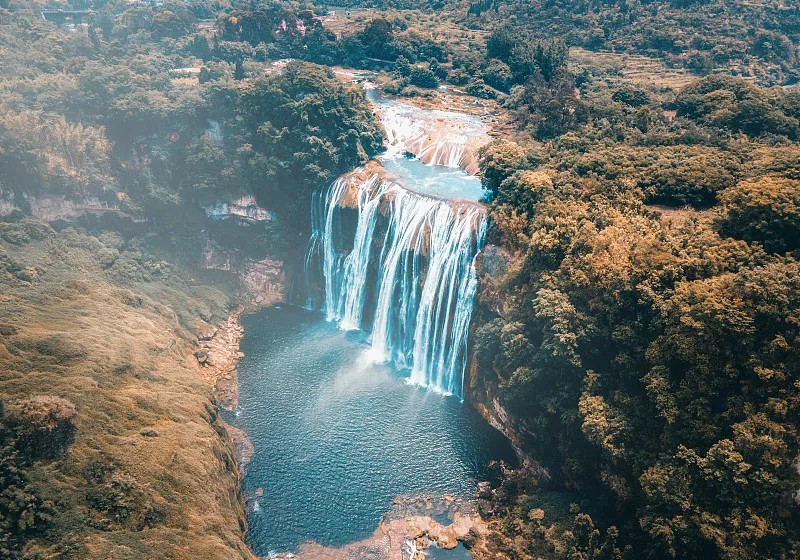Huangguoshu: (308, 117, 486, 401)
